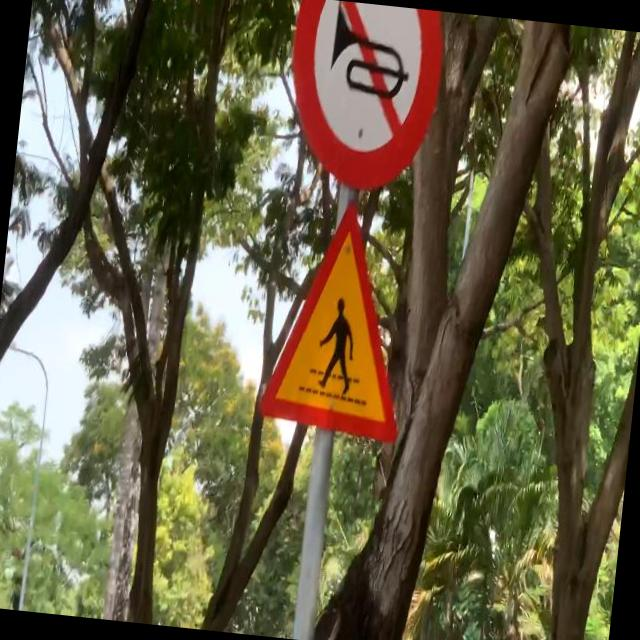W-224: (254, 189, 418, 440)
